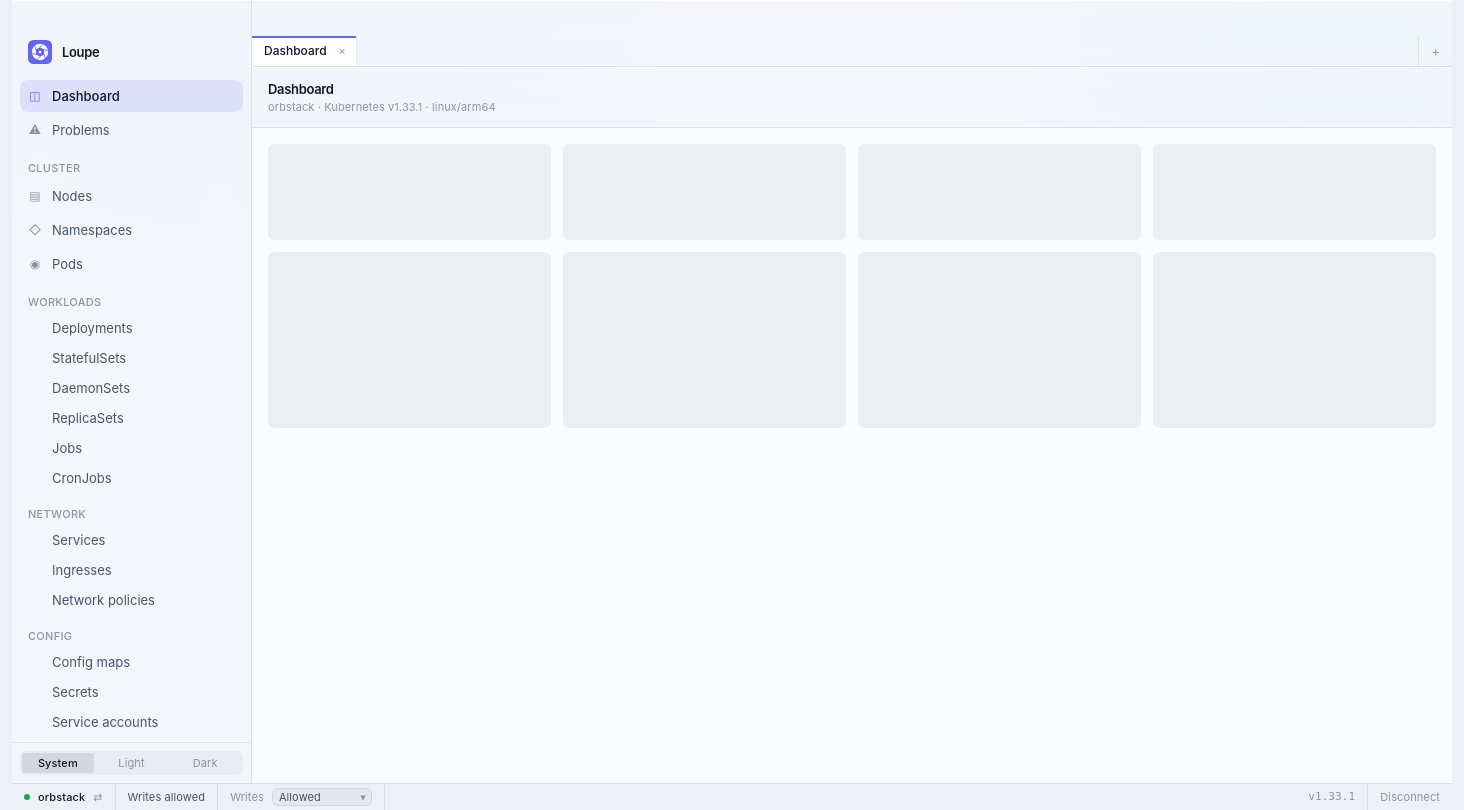
Scenario: App workspace › goes to the listing an object belongs to from its crumb
Expected: the heading "Dashboard" is shown, [268,81,334,97]
Click the button "◉ Pods".
click(132, 264)  # box [20,248,243,280]
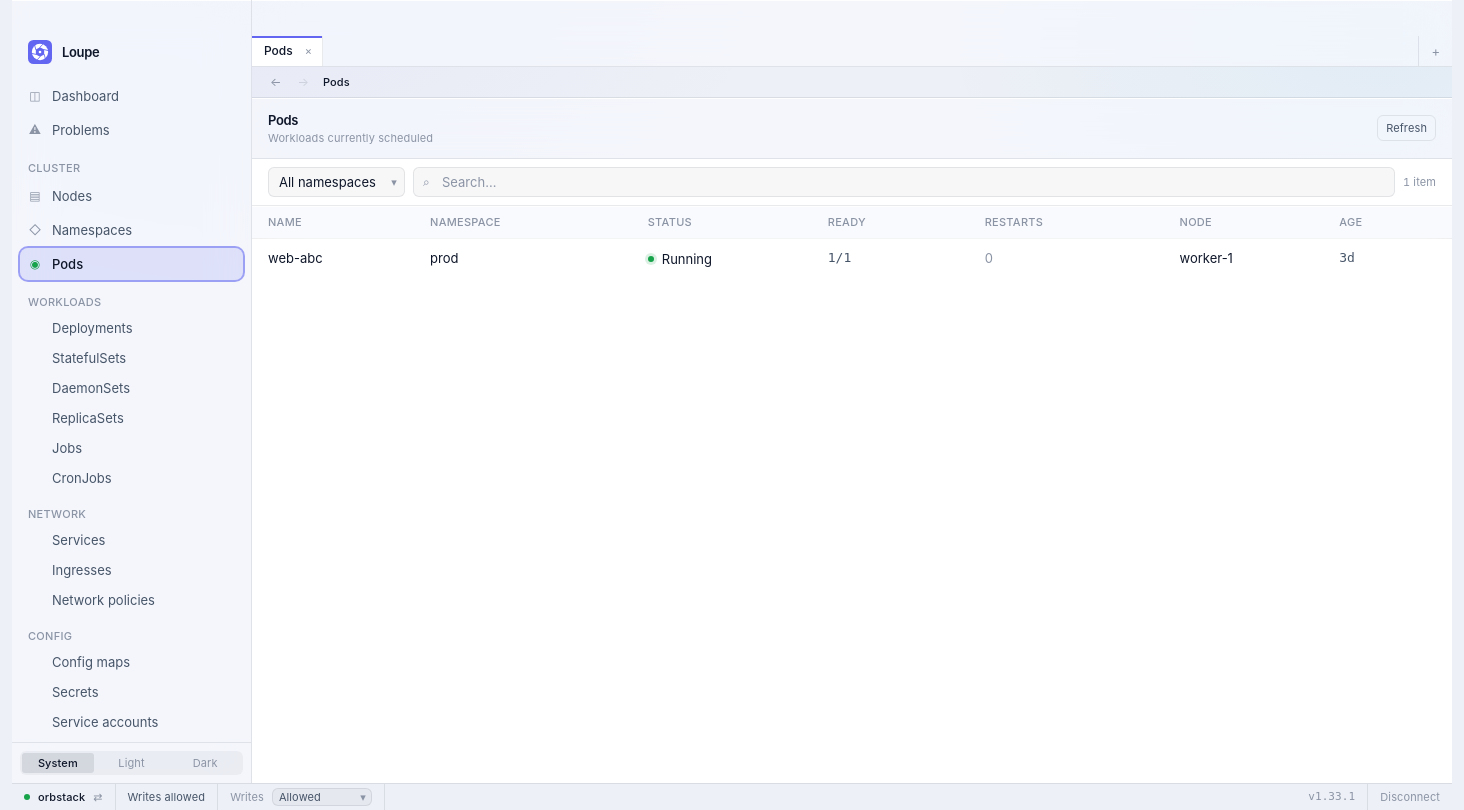
Click the text "web-abc".
click(295, 258)  # box [252,238,414,277]
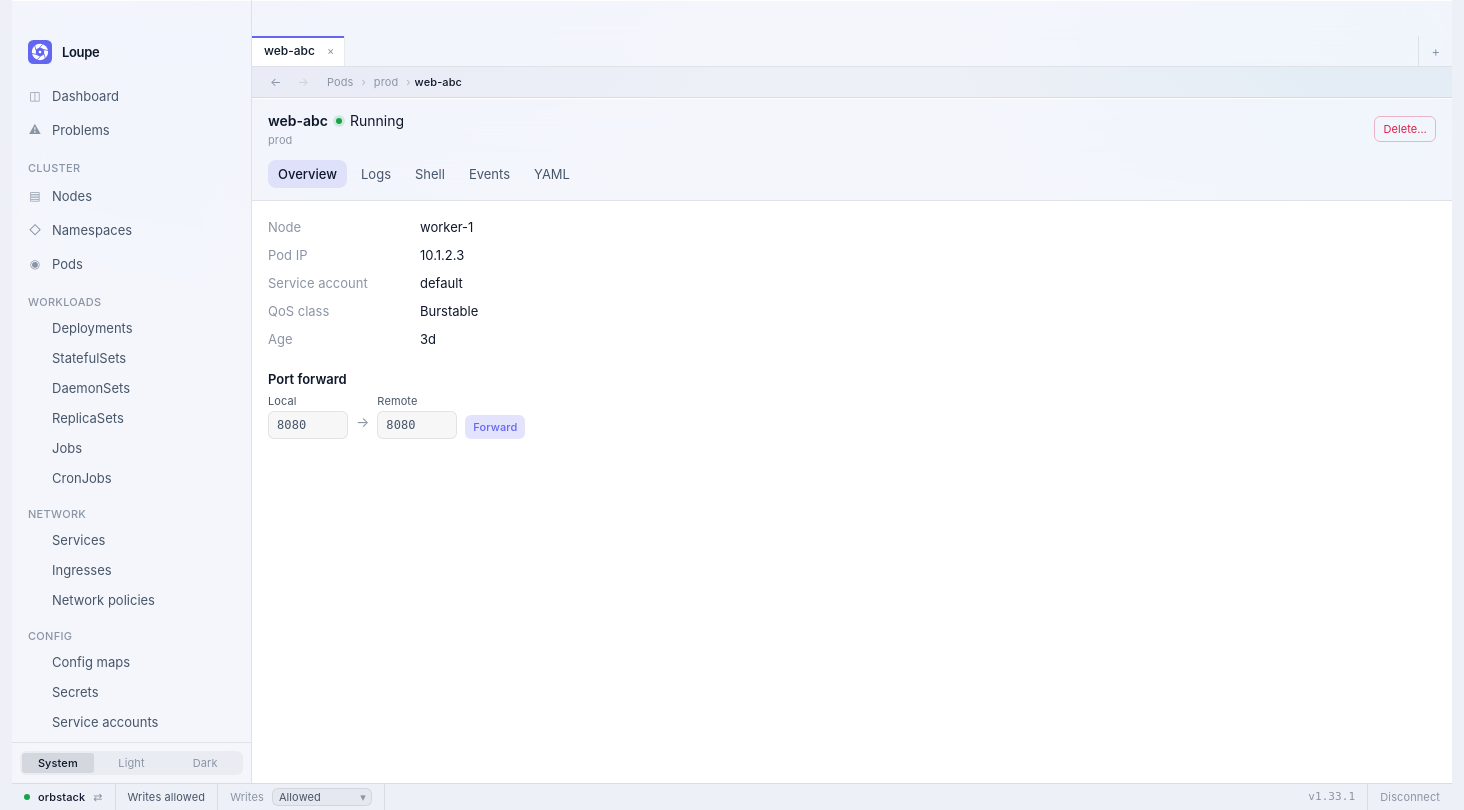
Click the button titled "Go to Pods".
click(340, 82)  # box [323,74,357,90]
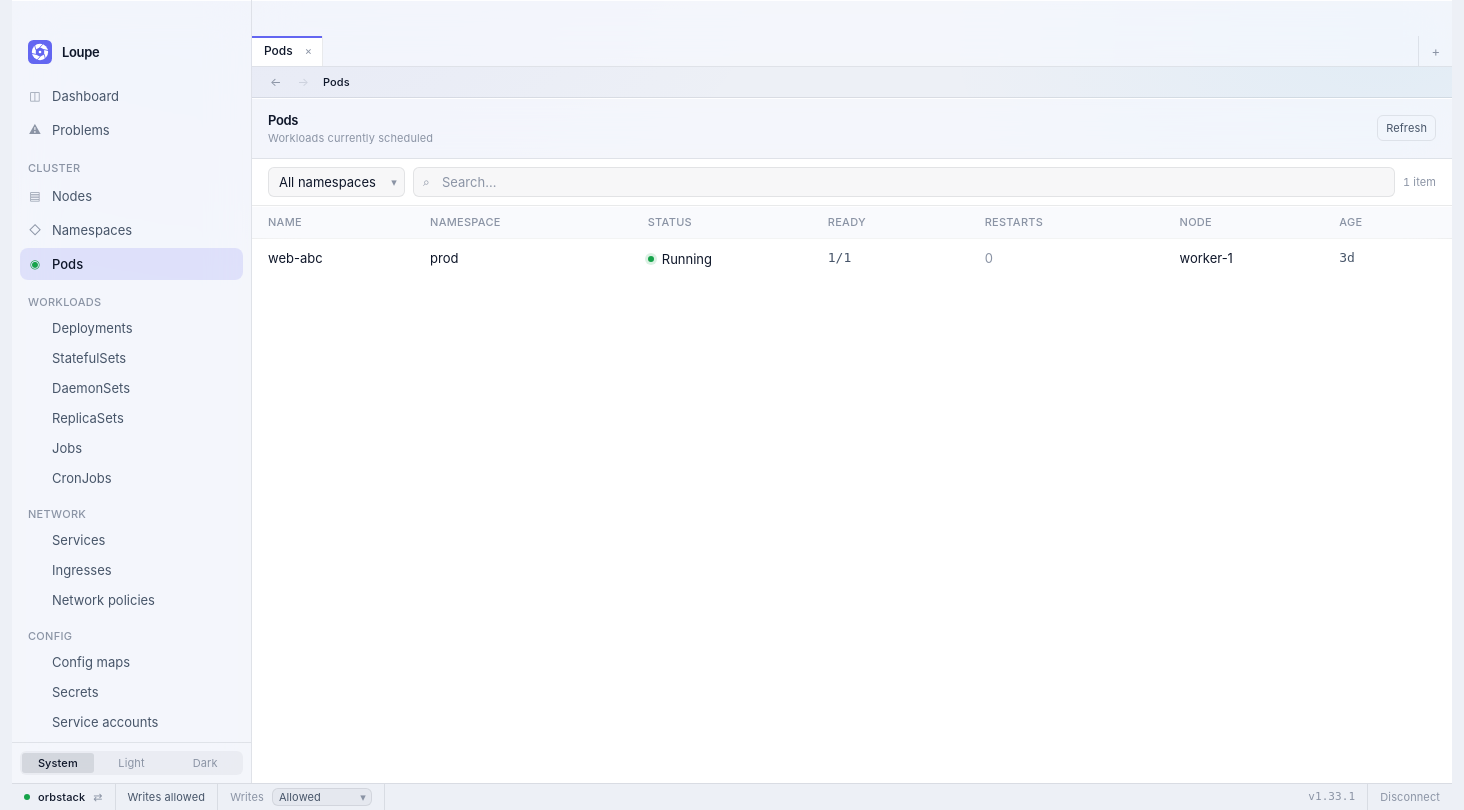
Result: the heading "Pods" is shown at [268,112,298,128]
